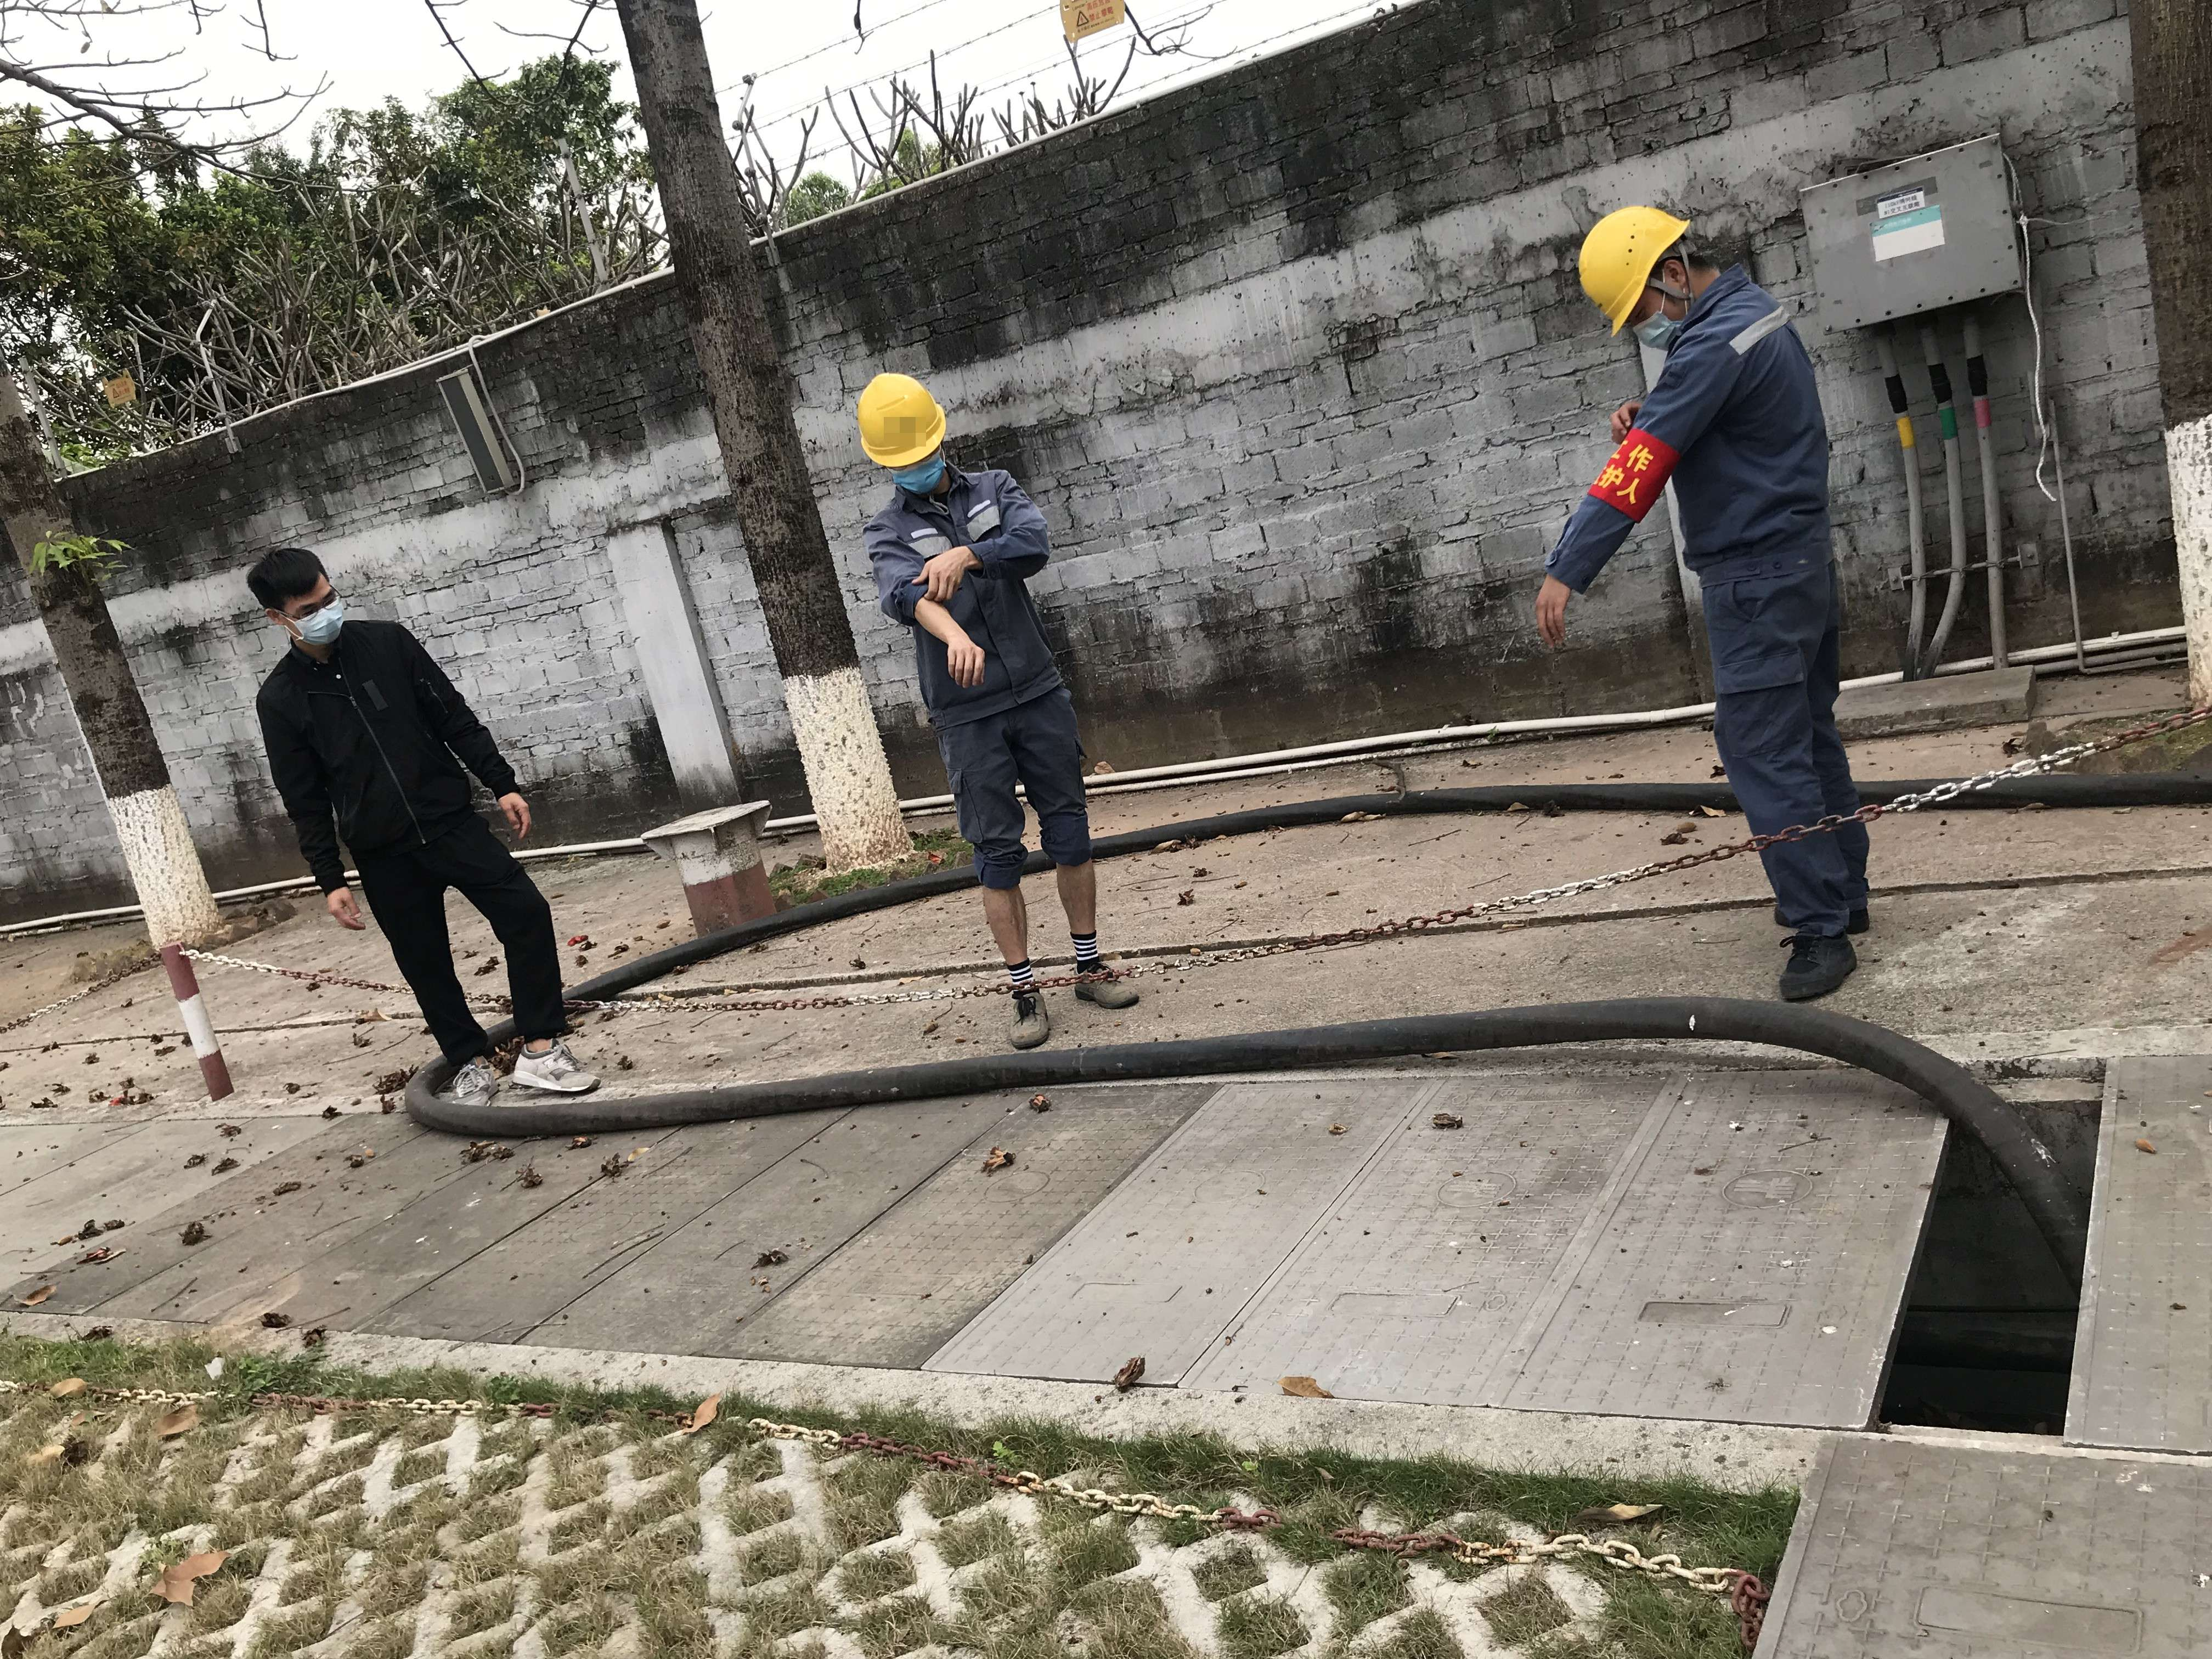downcloth: (350, 843, 590, 1053)
downsuit: (1693, 592, 1886, 936), (939, 720, 1099, 889)
upcloth: (251, 627, 514, 830)
upsuit: (1559, 286, 1834, 573), (873, 467, 1066, 709)
wrongbottom: (967, 854, 1104, 1004)
wrongtop: (899, 580, 993, 681)
